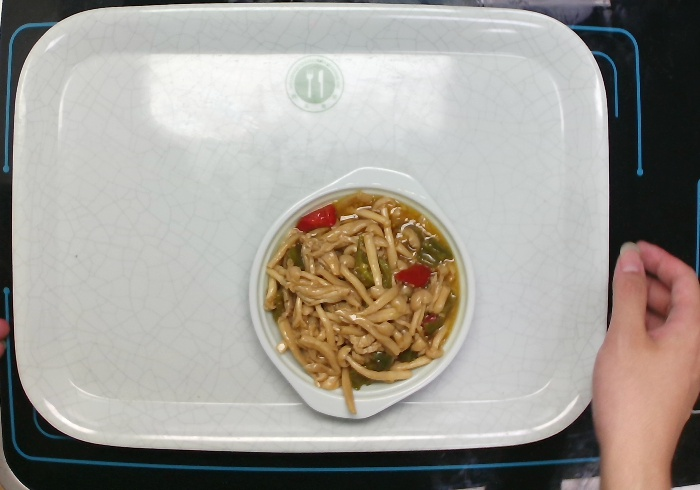JYsf-Shuang_Er_Pan: (247, 162, 474, 422)
